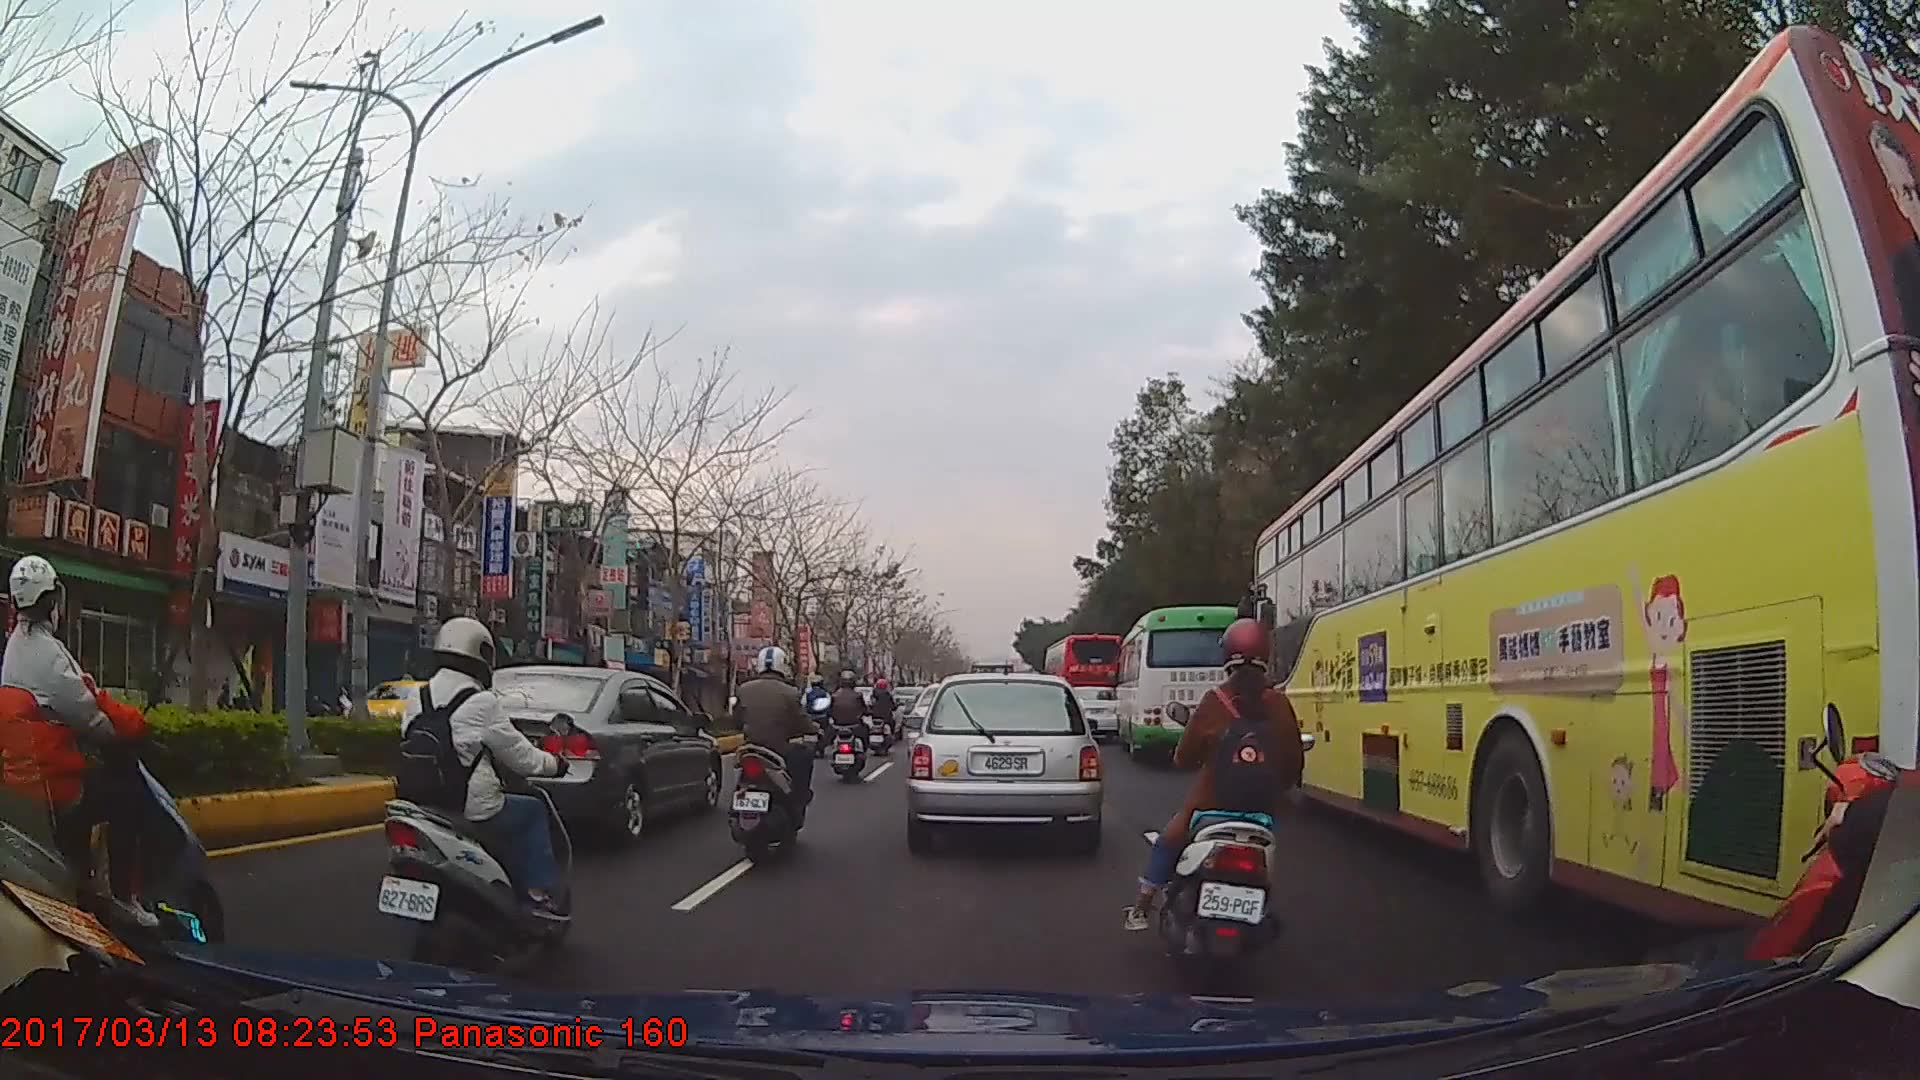rider: (1, 558, 226, 977), (376, 617, 582, 975), (1142, 618, 1317, 997), (731, 646, 827, 868), (828, 672, 868, 784), (867, 679, 898, 758), (803, 675, 836, 744)
vehicle: (1255, 23, 1920, 941), (410, 663, 723, 846), (907, 669, 1100, 847), (1115, 603, 1267, 762), (1044, 633, 1130, 735)
